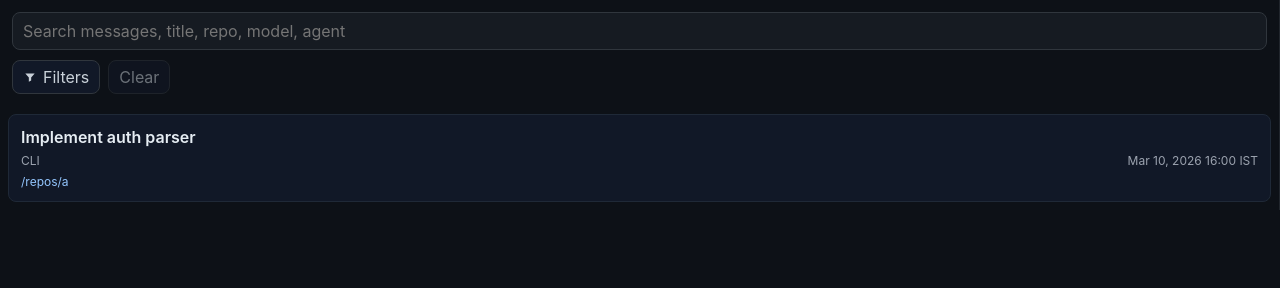
Test: SessionListSidebar › closes an open dropdown when clicking outside filters
Click the button "Filters" at point(56, 77), box 12,60 -> 100,94
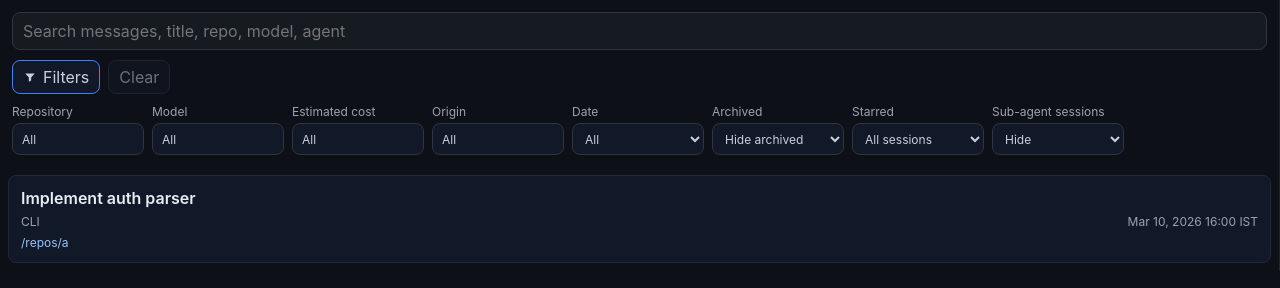
Click the button with aria-label "Repository filter" at point(78, 139), box 12,123 -> 144,155
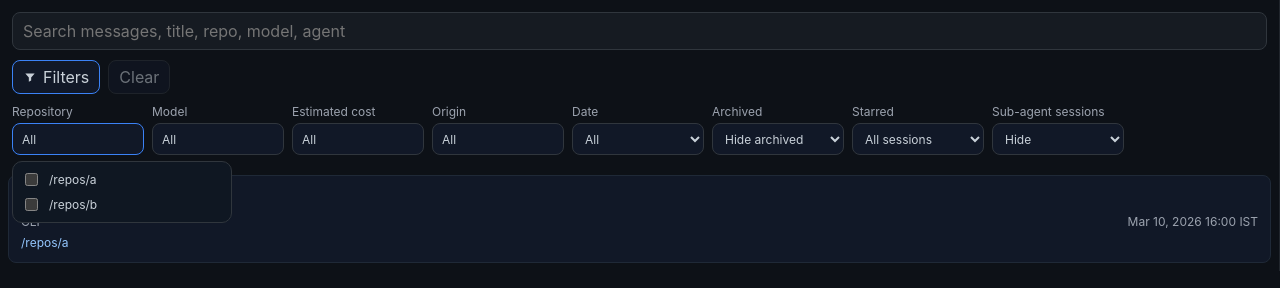
Result: the checkbox named "Repository: /repos/a" is shown at 25,173 -> 38,186
Press the mouse on the element that starts with "Filters" at point(640, 136), box 0,0 -> 1279,271
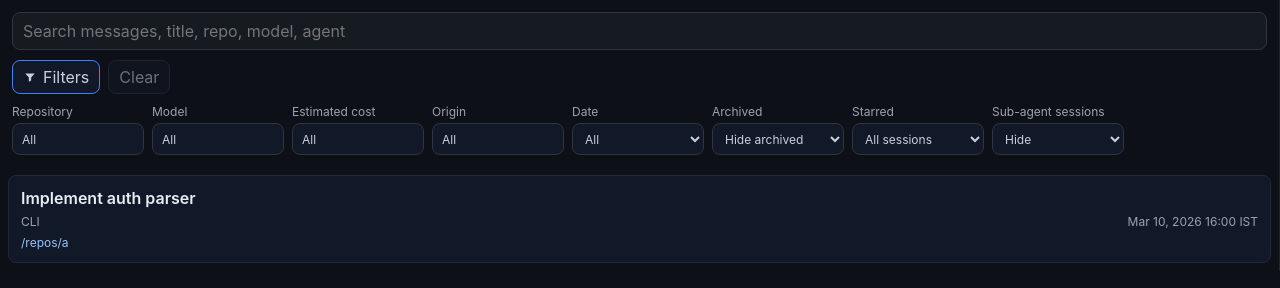
Result: the checkbox labelled "Repository: /repos/a" is gone
